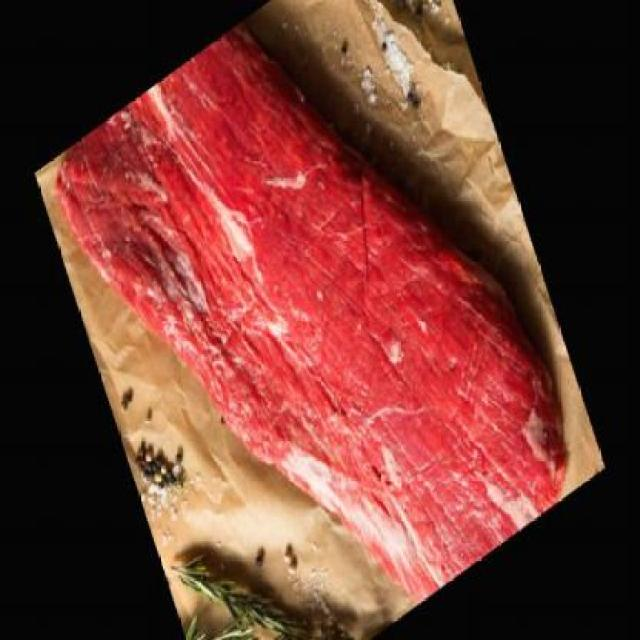beef: (43, 0, 588, 638)
